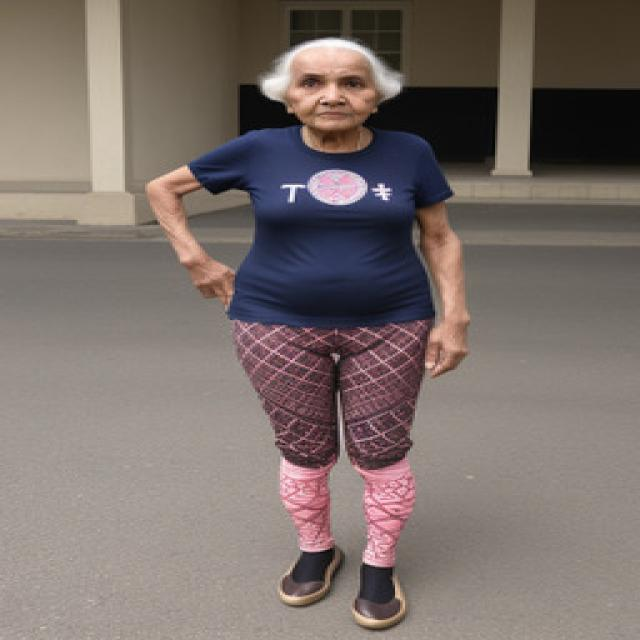Ai human 2: (144, 31, 488, 636)
